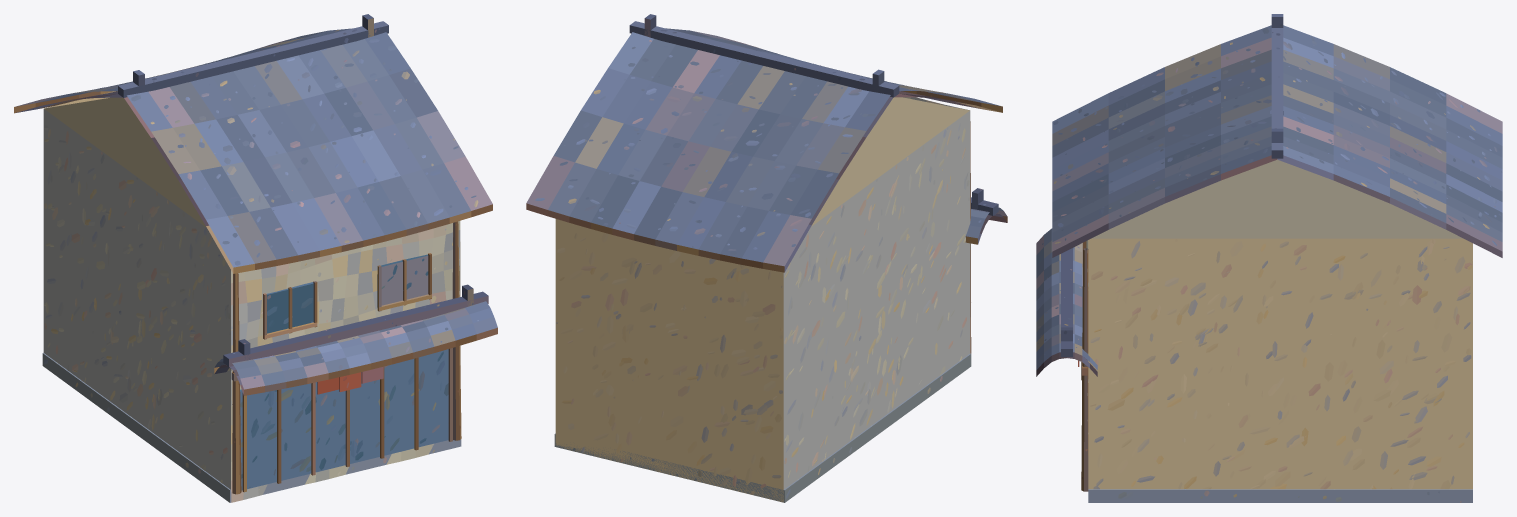
The model's file is HK_Machiya_B.glb.
3 views of the same model, side by side, from view 1: azimuth 30°, elevation 25°; view 2: azimuth 150°, elevation 25°; view 3: azimuth 270°, elevation 25° (orthographic). The views are drawn at different scales.
Visible parts, largest first — view 1: HK_Machiya_B; view 2: HK_Machiya_B; view 3: HK_Machiya_B.
Part boxes in pixels (x1,y1,x2,y2): HK_Machiya_B: [14, 14, 497, 502]; HK_Machiya_B: [526, 14, 1007, 502]; HK_Machiya_B: [1036, 14, 1502, 502].
Bounding box in the file's own units: 6.95 × 9.07 × 10.3.
